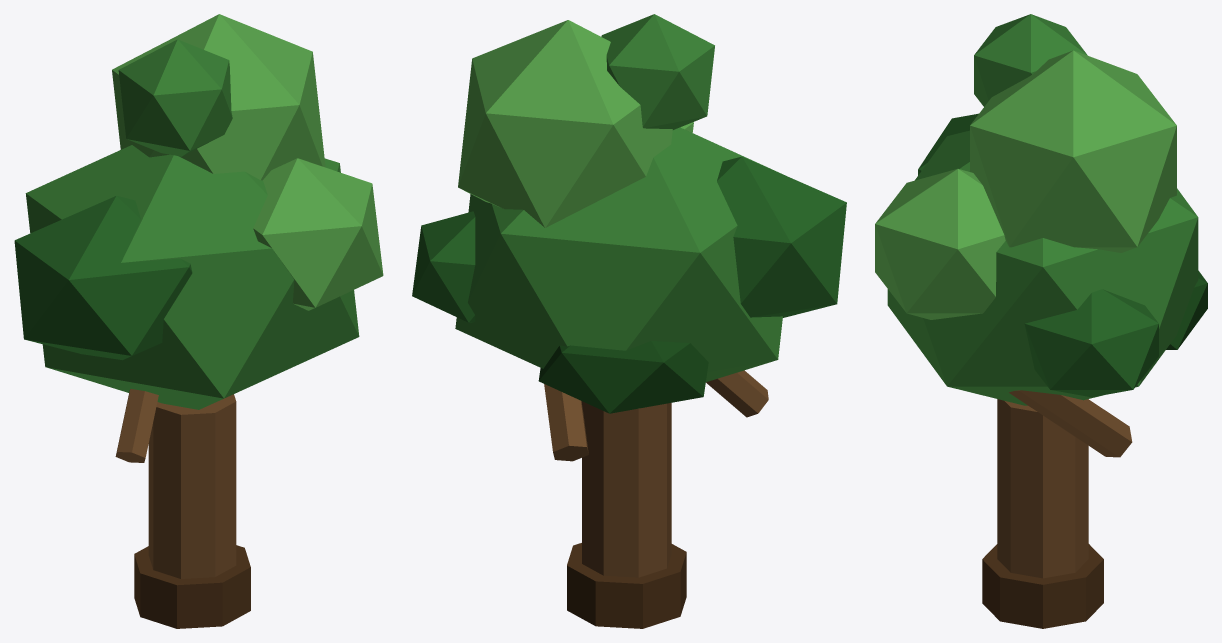
Rendered from tree.glb.
3 views of the same model, side by side, from view 1: azimuth 30°, elevation 25°; view 2: azimuth 150°, elevation 25°; view 3: azimuth 270°, elevation 25° (orthographic). The views are drawn at different scales.
Visible parts, largest first — view 1: LeafMain, LeafSide, LeafTop, Trunk, LeafBack, LeafTip, TrunkFlare, BranchB; view 2: LeafMain, LeafTop, LeafSide, Trunk, LeafTip, LeafLow, TrunkFlare, LeafFar, BranchA, BranchB; view 3: LeafTop, LeafMain, LeafBack, Trunk, LeafFar, TrunkFlare, LeafTip, BranchA, LeafLow, LeafSide.
Boxes of the visible parts, x1,y1,x2,y2 form: LeafMain: (25, 145, 359, 409); LeafSide: (14, 195, 192, 360); LeafTop: (112, 14, 325, 180); Trunk: (148, 394, 236, 578); LeafBack: (253, 158, 383, 310); LeafTip: (118, 39, 232, 156); TrunkFlare: (134, 545, 250, 628); BranchB: (115, 389, 158, 462); LeafMain: (455, 127, 782, 381); LeafTop: (458, 20, 672, 227); LeafSide: (717, 156, 846, 317); Trunk: (582, 401, 671, 577); LeafTip: (601, 14, 714, 129); LeafLow: (538, 341, 708, 413); TrunkFlare: (567, 543, 686, 628); LeafFar: (412, 211, 475, 322); BranchA: (544, 384, 588, 461); BranchB: (706, 370, 768, 417); LeafTop: (970, 50, 1176, 252); LeafMain: (887, 130, 1198, 405); LeafBack: (875, 169, 1005, 319); Trunk: (997, 399, 1088, 578); LeafFar: (1024, 289, 1158, 397); TrunkFlare: (982, 544, 1103, 628); LeafTip: (974, 14, 1087, 106); BranchA: (1009, 390, 1132, 457); LeafLow: (1166, 270, 1207, 349); LeafSide: (918, 113, 978, 175).
Bounding box in the file's own units: 0.6934 × 1.05 × 0.5471.
